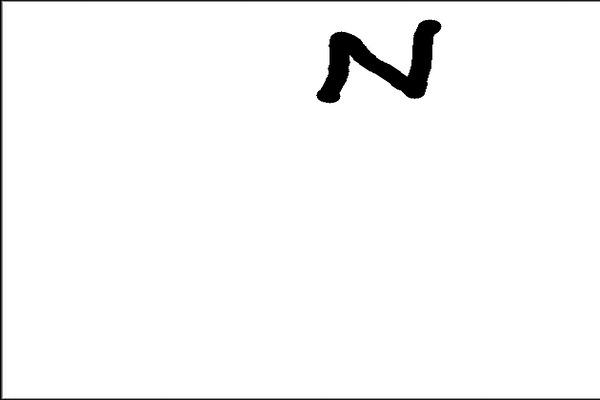N: (310, 15, 447, 115)
